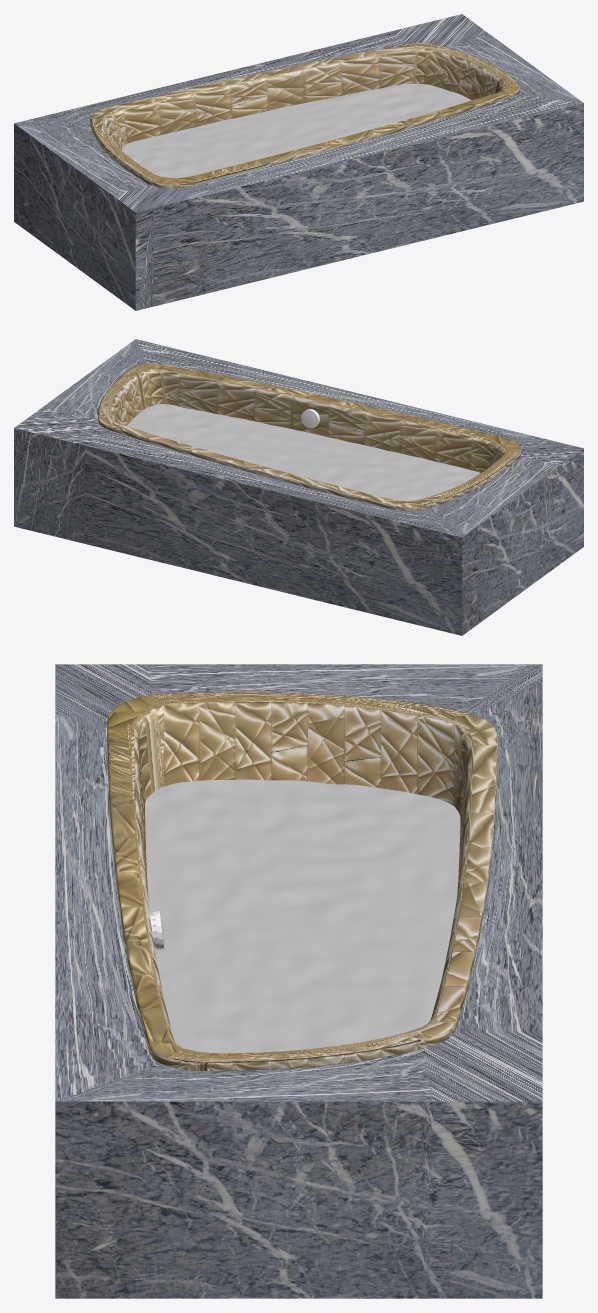
File: banera6.obj
3 renders of one model, top to bottom at view 1: azimuth 30°, elevation 25°; view 2: azimuth 150°, elevation 25°; view 3: azimuth 270°, elevation 25°, orthographic. The views are drawn at different scales.
Visible parts, largest first — view 1: Laufen_Palomba_242801__rack, Laufen_Palomba_242801__bath, Laufen_Palomba_242801__water; view 2: Laufen_Palomba_242801__rack, Laufen_Palomba_242801__bath, Laufen_Palomba_242801__water; view 3: Laufen_Palomba_242801__rack, Laufen_Palomba_242801__water, Laufen_Palomba_242801__bath.
Boxes of the visible parts, left/top/right/bottom form: Laufen_Palomba_242801__rack: left=14, top=14, right=583, bottom=310; Laufen_Palomba_242801__bath: left=90, top=43, right=519, bottom=188; Laufen_Palomba_242801__water: left=122, top=83, right=471, bottom=178; Laufen_Palomba_242801__rack: left=14, top=339, right=583, bottom=635; Laufen_Palomba_242801__bath: left=98, top=363, right=521, bottom=511; Laufen_Palomba_242801__water: left=127, top=404, right=480, bottom=500; Laufen_Palomba_242801__rack: left=55, top=664, right=542, bottom=1298; Laufen_Palomba_242801__water: left=145, top=779, right=460, bottom=1053; Laufen_Palomba_242801__bath: left=107, top=692, right=497, bottom=1071.
Bounding box in the file's own units: 212 × 46.4 × 99.72.
